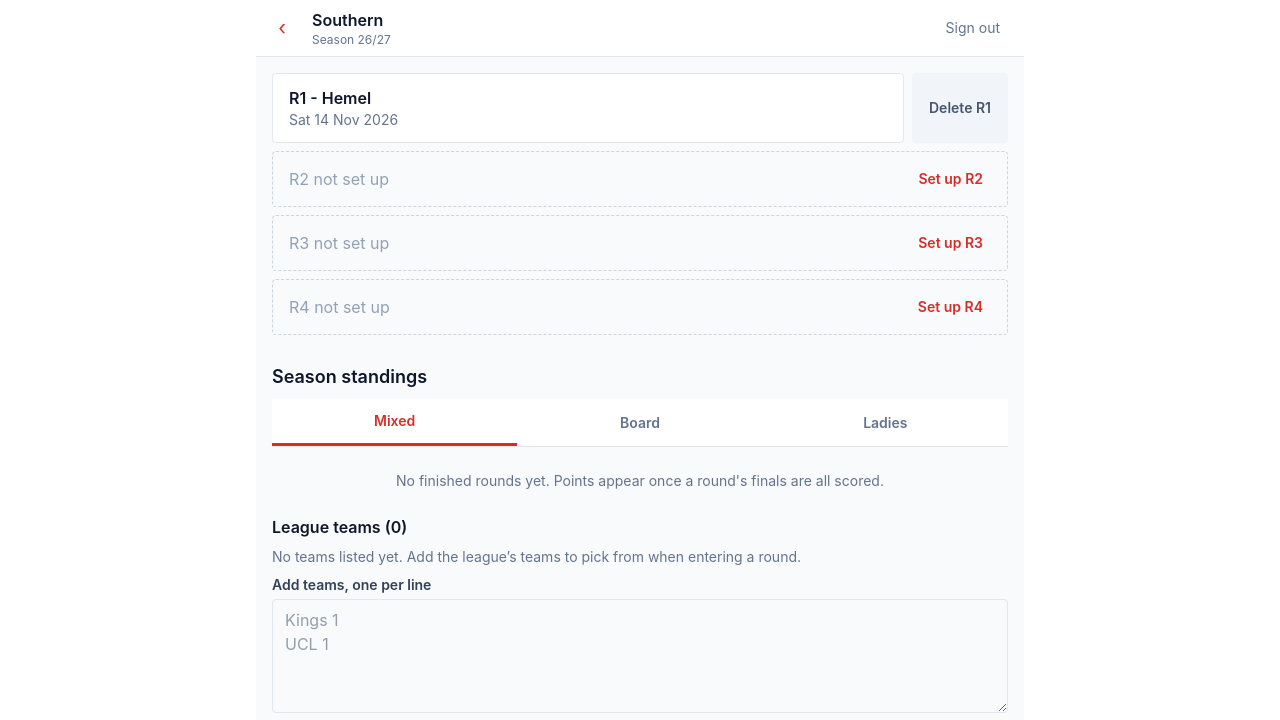
LeaguePage › keeps the round when the delete is cancelled
This screenshot has width=1280, height=720.
What coordinates should you click on to do the following:
click the button "Delete R1"
I would click on:
 (960, 108)
Its box is [912,73,1008,143].
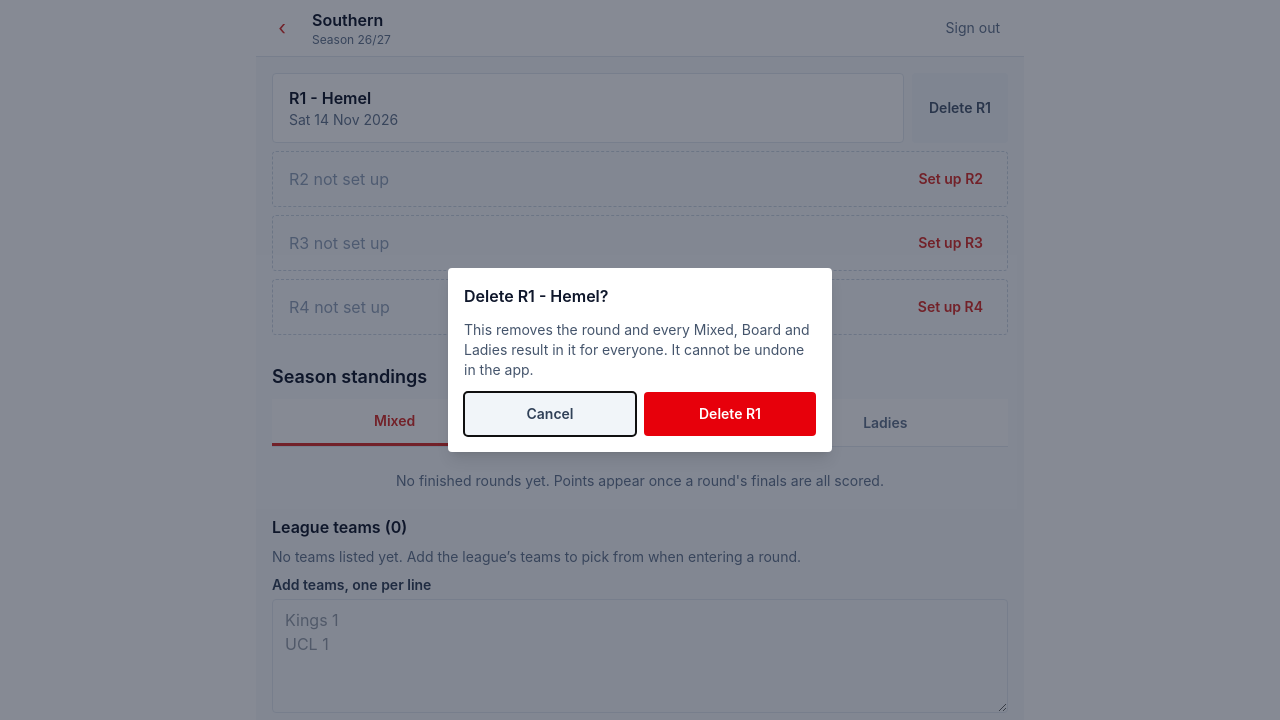
What coordinates should you click on to do the following:
click the button "Cancel"
I would click on:
 (550, 414)
Its box is [464,392,636,436].
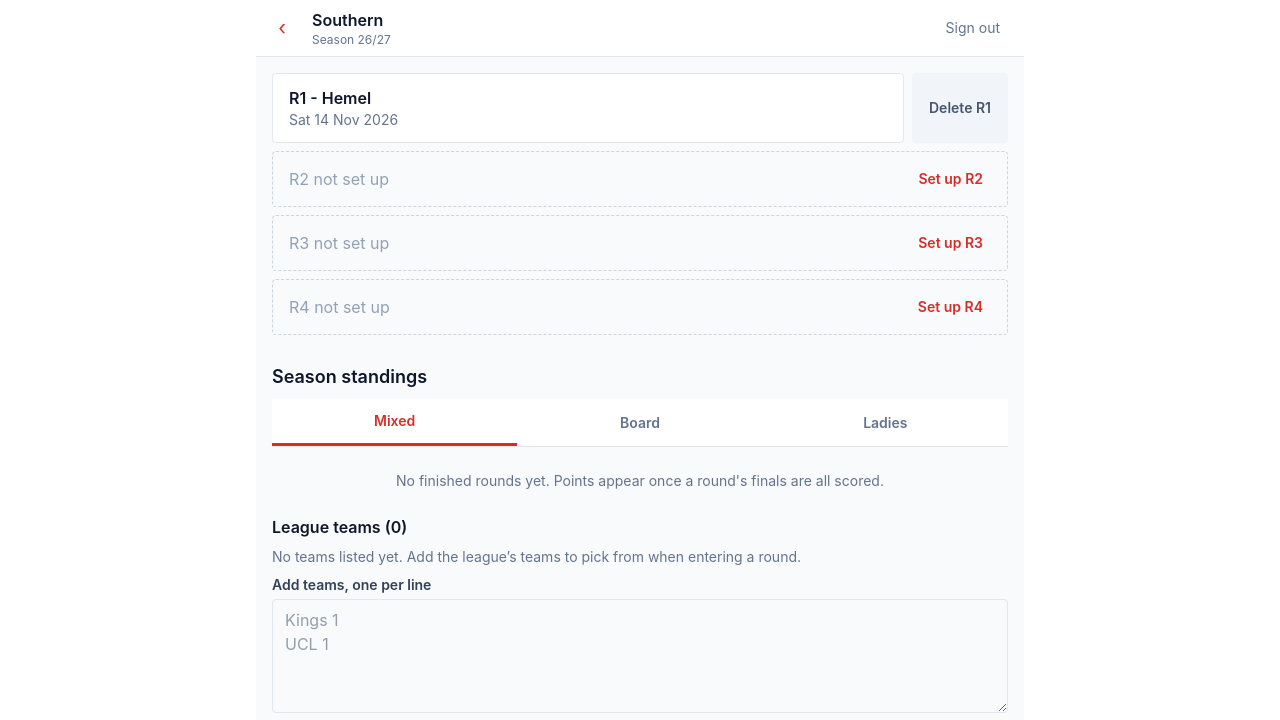
Result: the dialog is gone
